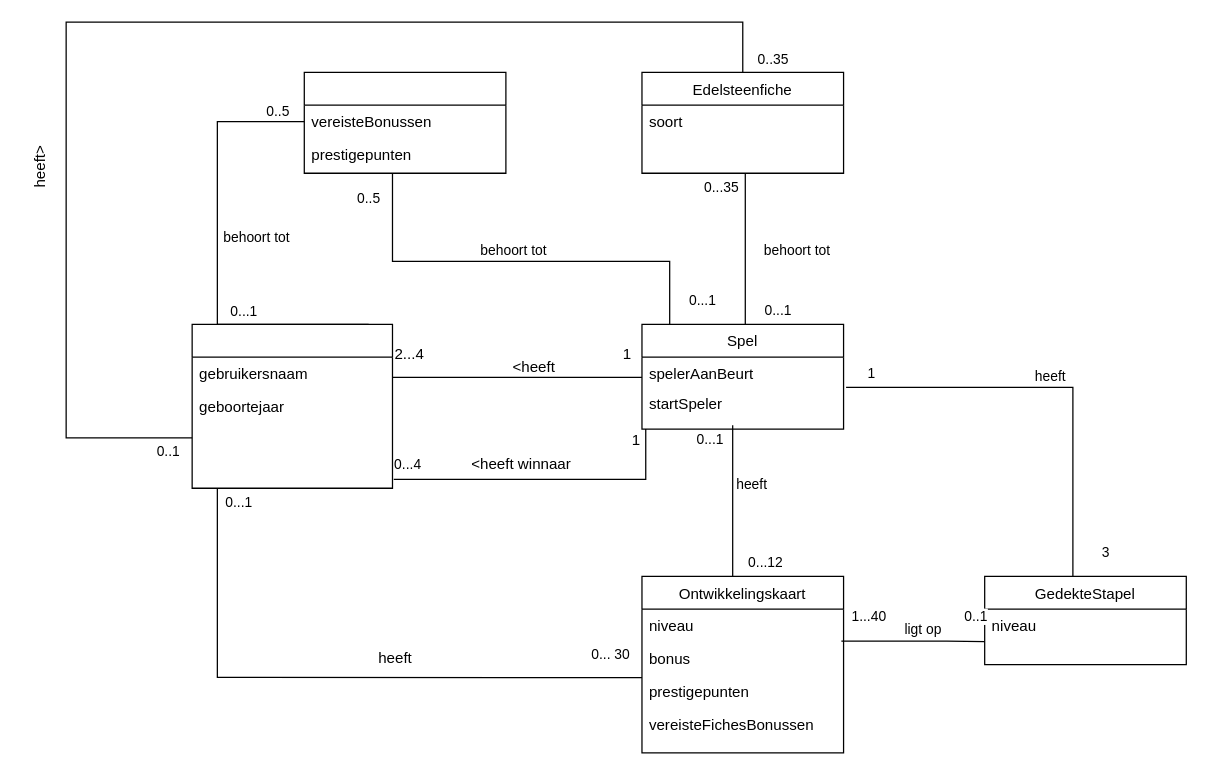
Some shapes in this 1208 by 775 pixel diagram are drawn without their labels. Each missing label, with the box of its shape:
Edel: (303, 71, 506, 173)
Speler: (191, 323, 392, 488)
